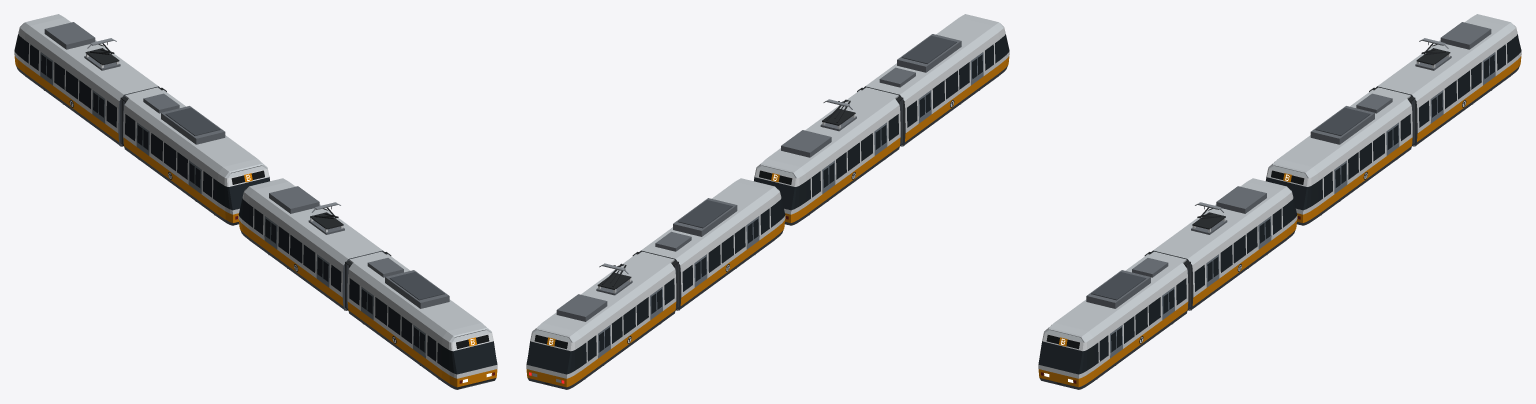
Rendered from mbta-train-orange.glb.
3 views of the same model, side by side, from view 1: azimuth 30°, elevation 25°; view 2: azimuth 150°, elevation 25°; view 3: azimuth 330°, elevation 25° (orthographic).
Parts seen in each view (by area): view 1: mbta-green-line-train; view 2: mbta-green-line-train; view 3: mbta-green-line-train.
Part boxes in pixels (x1,y1,x2,y2): mbta-green-line-train: (14, 14, 497, 389); mbta-green-line-train: (526, 14, 1009, 389); mbta-green-line-train: (1038, 14, 1521, 389).
Size of the model in its own units: 2.72 by 4.36 by 45.01.
